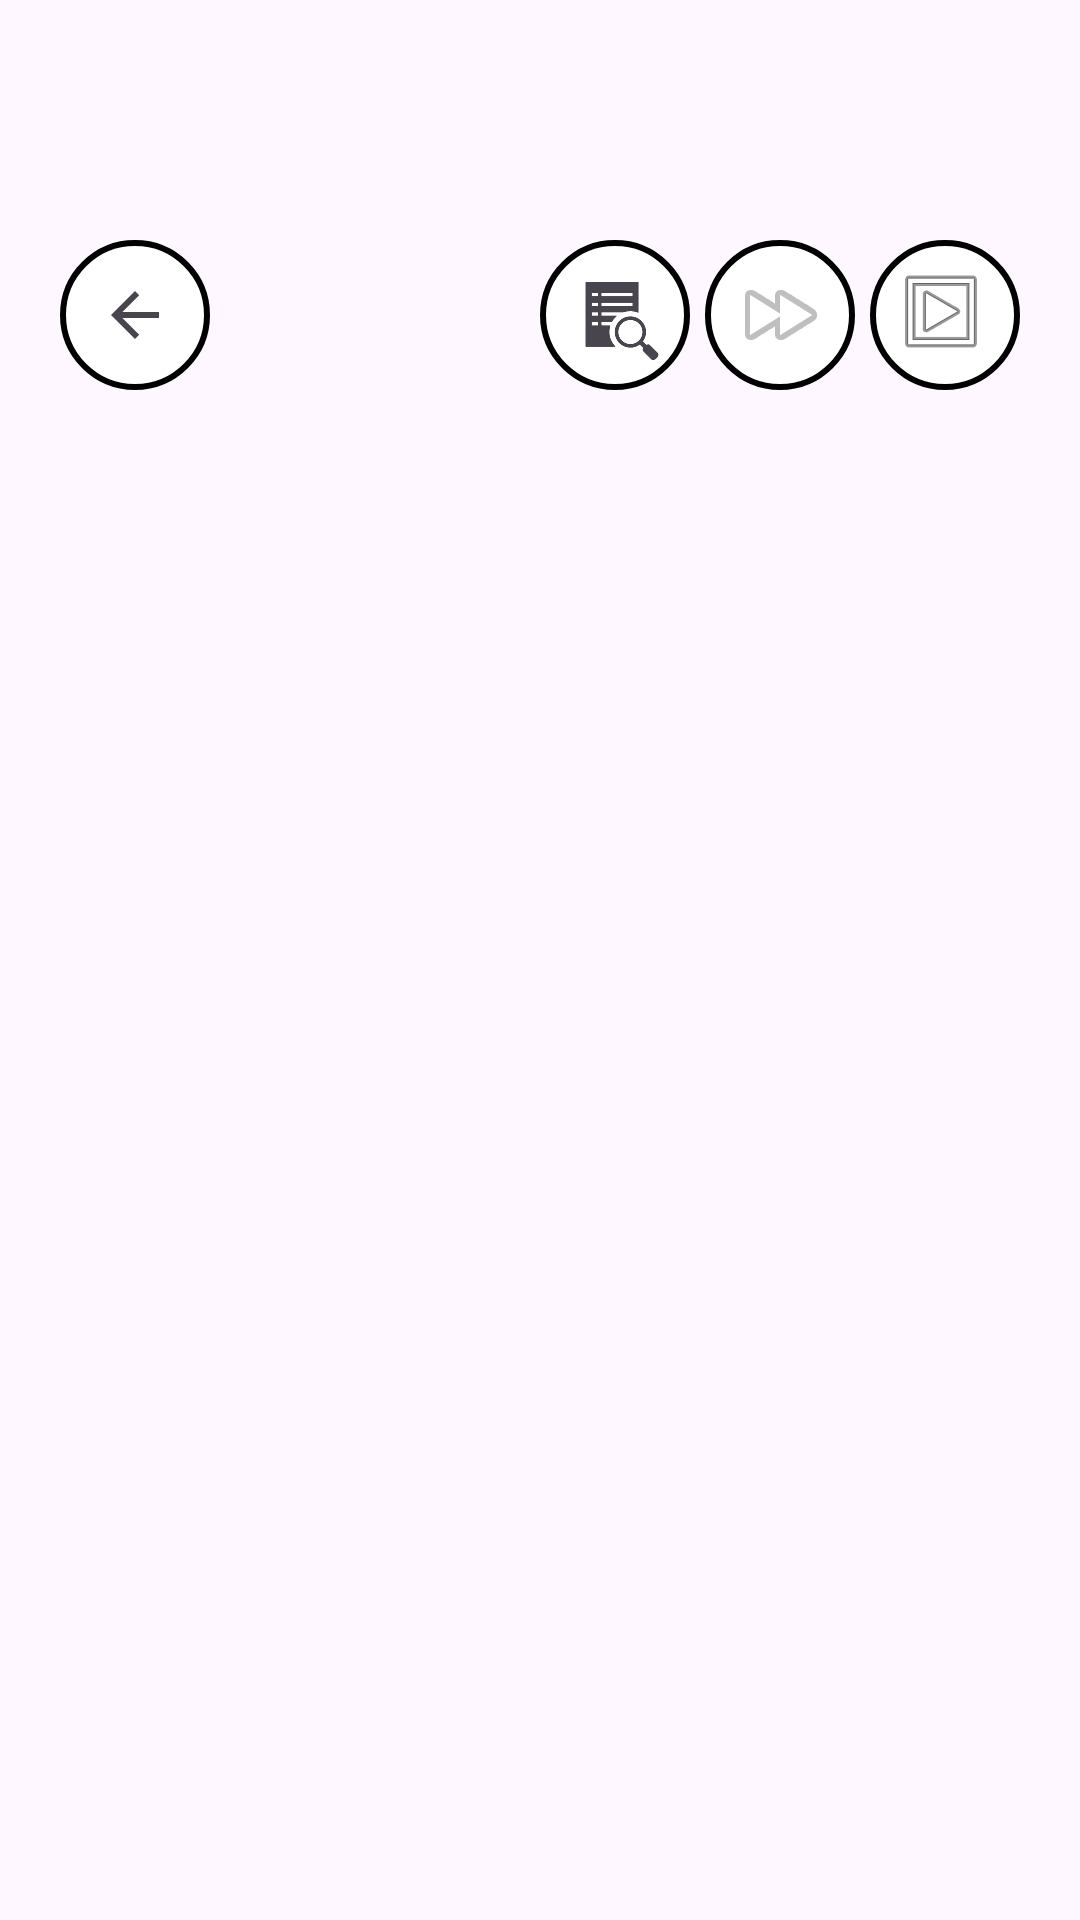

Icon bounding boxes for this 1080 x 1920 phone screenshot, format bbox(x1, y1, x2, y2):
slideshow: bbox(870, 240, 1020, 390)
